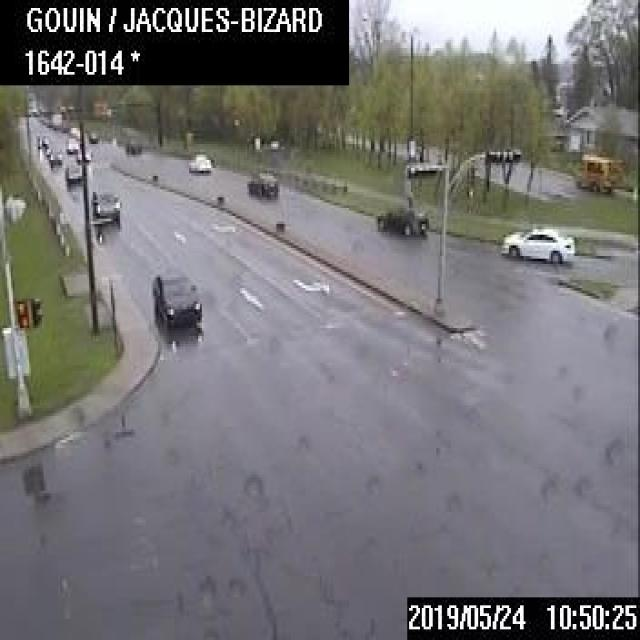bus: (574, 152, 624, 190)
vehicle: (151, 269, 201, 330), (500, 225, 573, 261), (374, 205, 427, 233), (89, 188, 120, 226), (245, 170, 276, 195), (64, 163, 82, 189), (187, 152, 210, 170), (123, 135, 141, 154), (48, 145, 61, 167), (64, 136, 76, 151), (75, 150, 90, 161), (86, 130, 97, 141)
